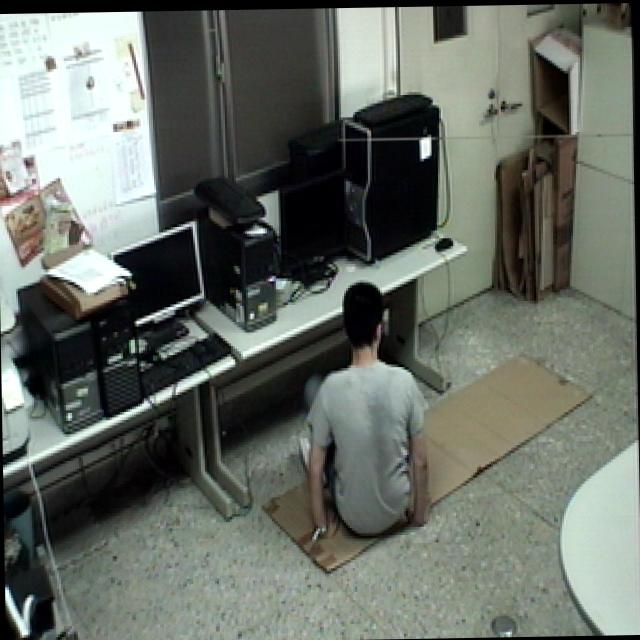sit: (286, 279, 440, 552)
